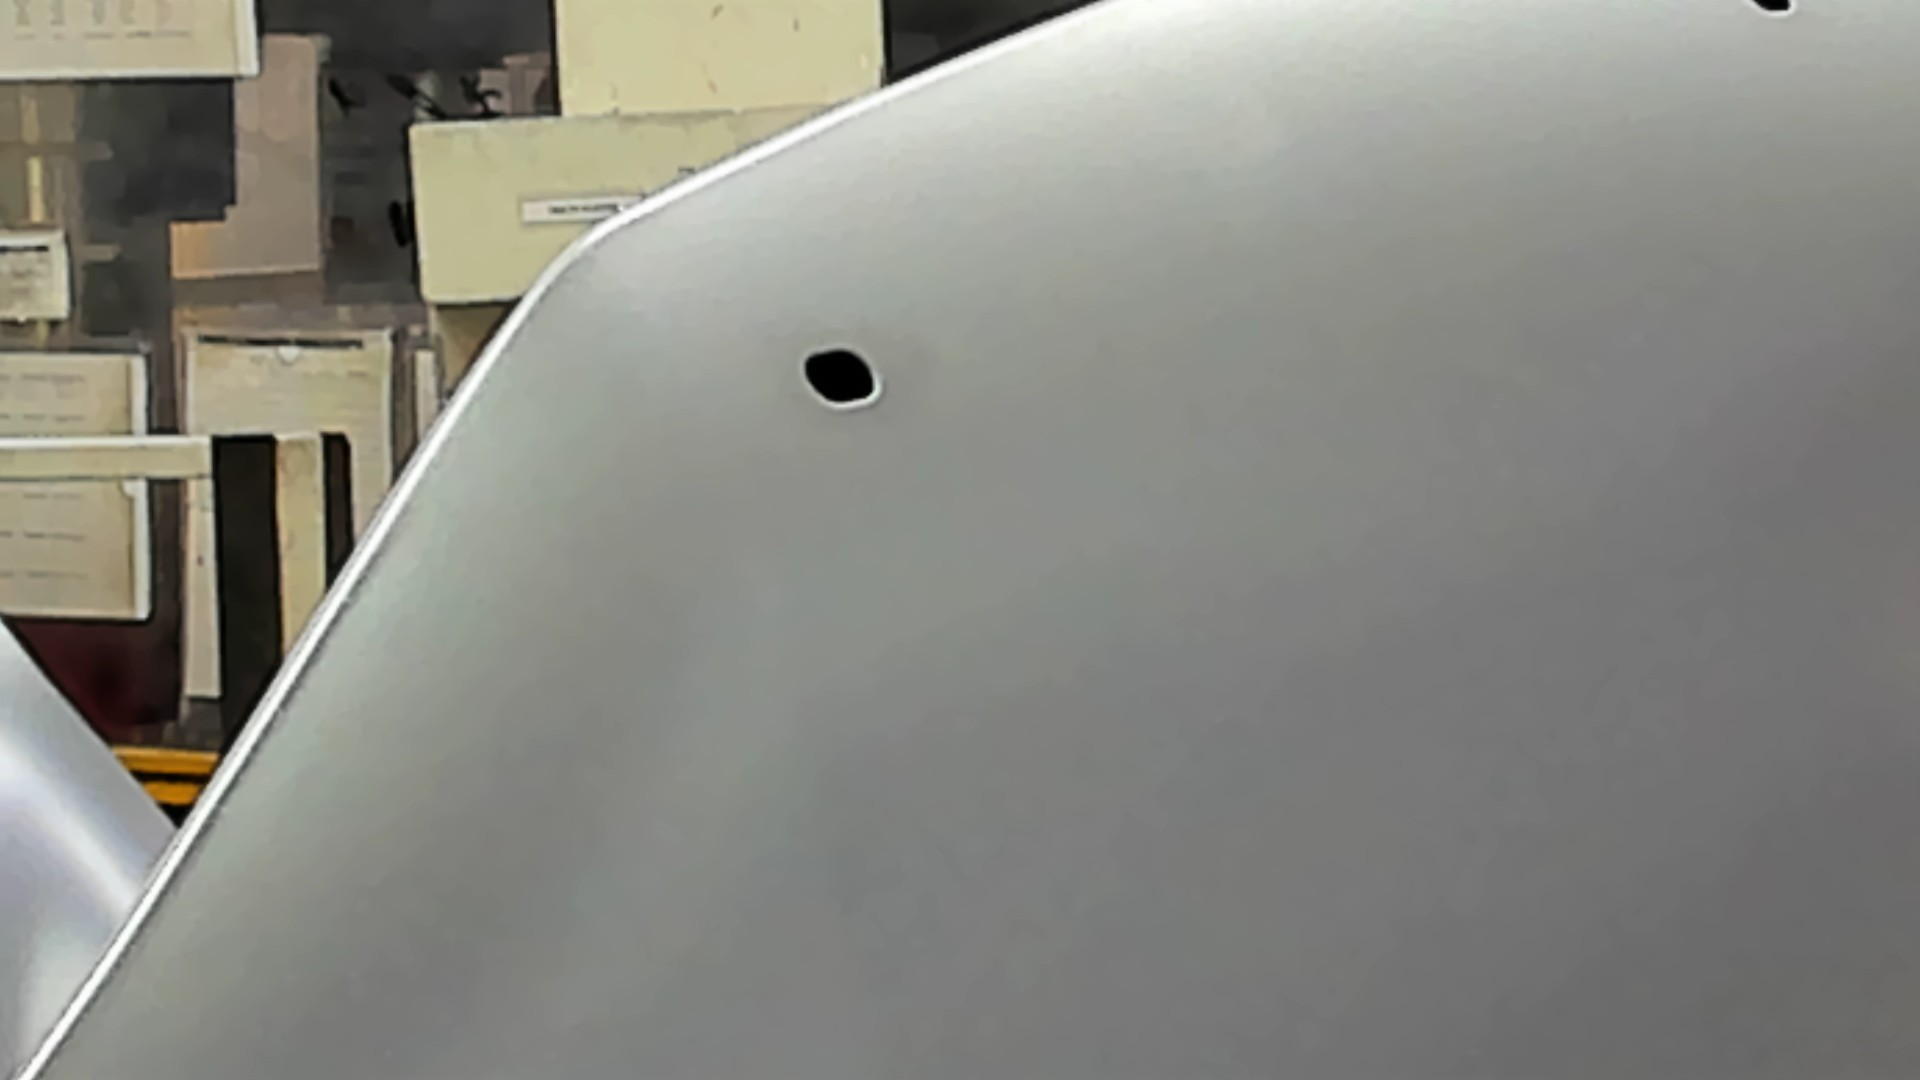amorfo: (798, 344, 884, 413), (1750, 1, 1805, 20)
